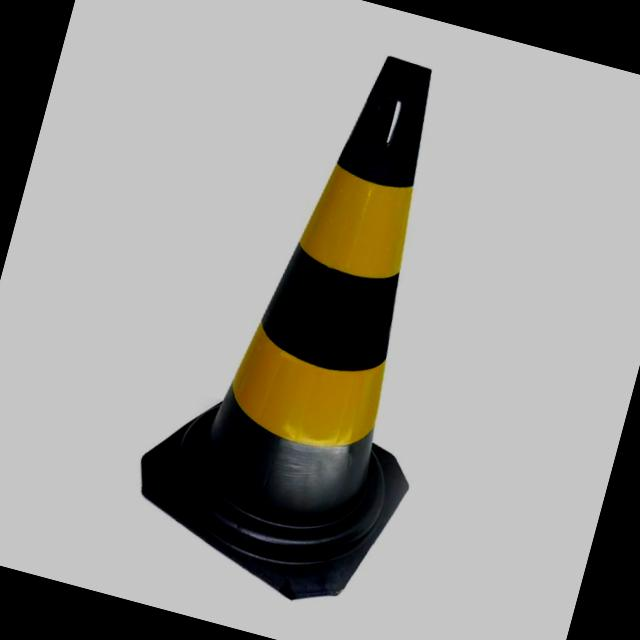cone: (171, 14, 494, 607)
